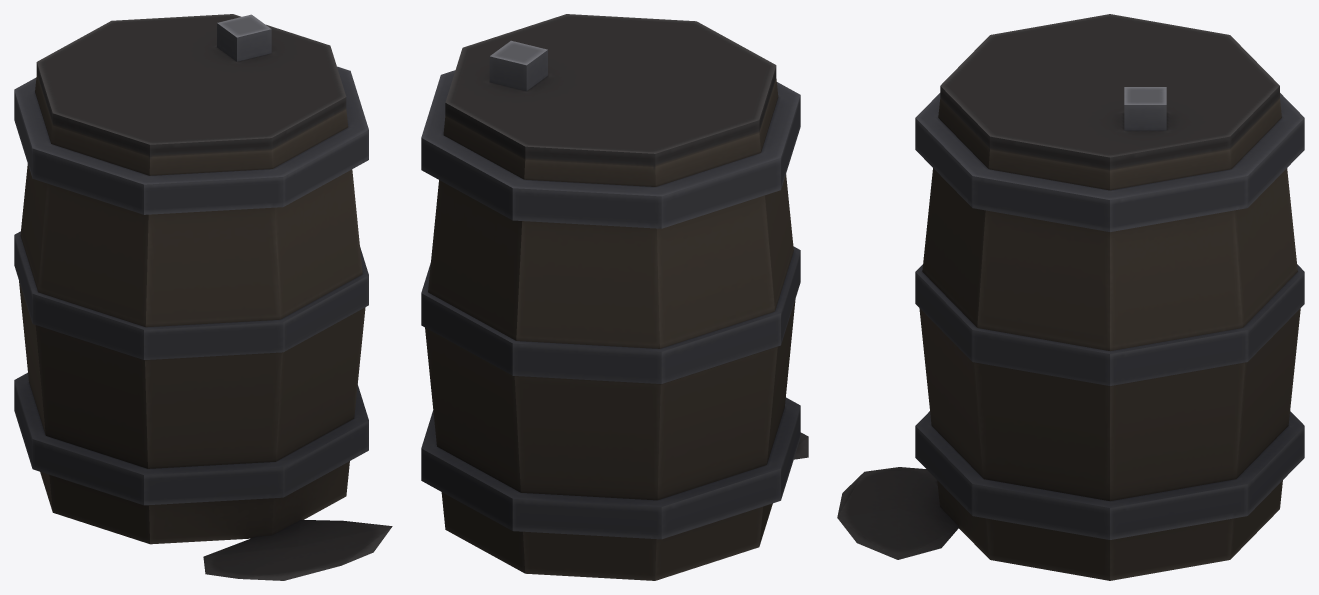
Rendered from obj_oil_barrel.glb.
3 views of the same model, side by side, from view 1: azimuth 30°, elevation 25°; view 2: azimuth 150°, elevation 25°; view 3: azimuth 270°, elevation 25° (orthographic). The views are drawn at different scales.
Visible parts, largest first — view 1: obj_oil_barrel; view 2: obj_oil_barrel; view 3: obj_oil_barrel.
Part boxes in pixels (x1=…): obj_oil_barrel: x1=14, y1=14, x2=392, y2=580; obj_oil_barrel: x1=421, y1=14, x2=808, y2=580; obj_oil_barrel: x1=837, y1=14, x2=1304, y2=580.
Size of the model in its own units: 0.55 by 0.7061 by 0.6605.
1 material, 1 textured.
